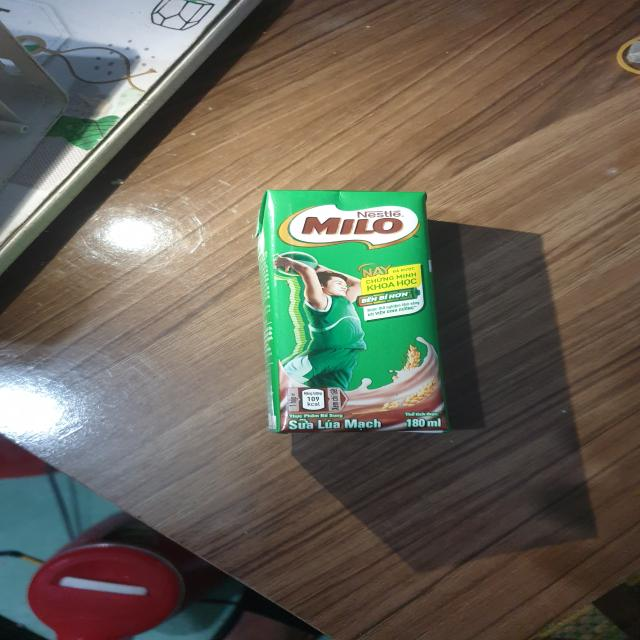Milo: (252, 187, 460, 436)
